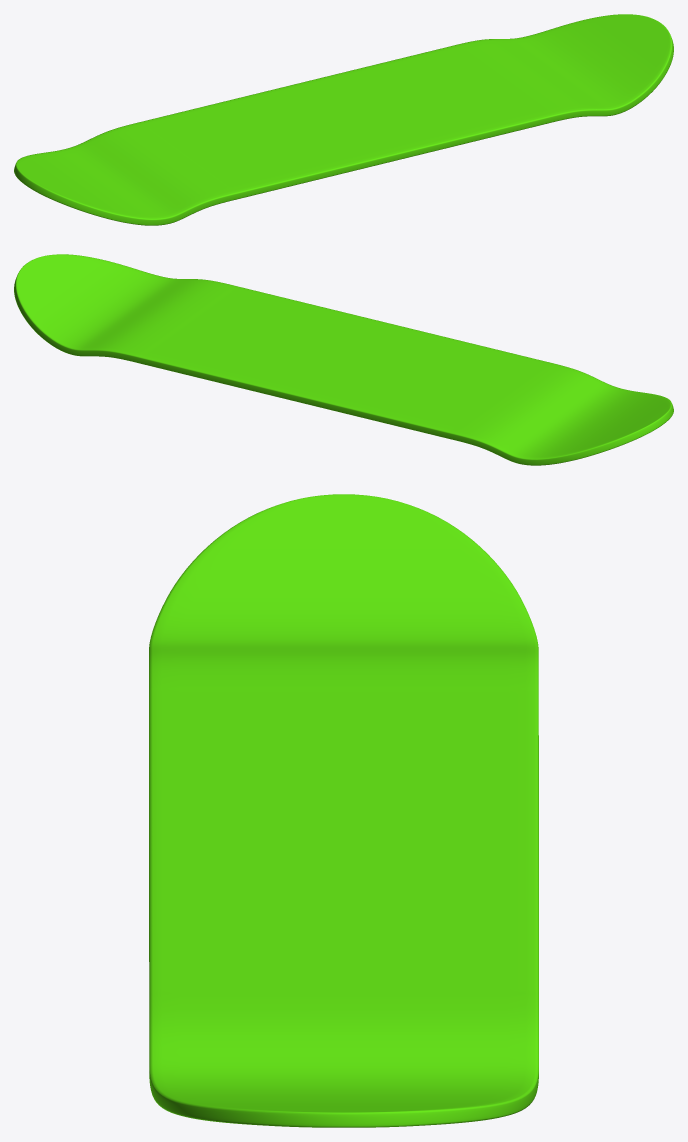
The model's file is deck.glb.
3 views of the same model, one above another, from view 1: azimuth 30°, elevation 25°; view 2: azimuth 150°, elevation 25°; view 3: azimuth 270°, elevation 25° (orthographic). The views are drawn at different scales.
Parts seen in each view (by area): view 1: Shape03; view 2: Shape03; view 3: Shape03.
Boxes of the visible parts, x1,y1,x2,y2 form: Shape03: (14,14,673,225); Shape03: (14,254,673,465); Shape03: (149,494,538,1127).
Size of the model in its own units: 2.48 by 0.1259 by 0.6564.
